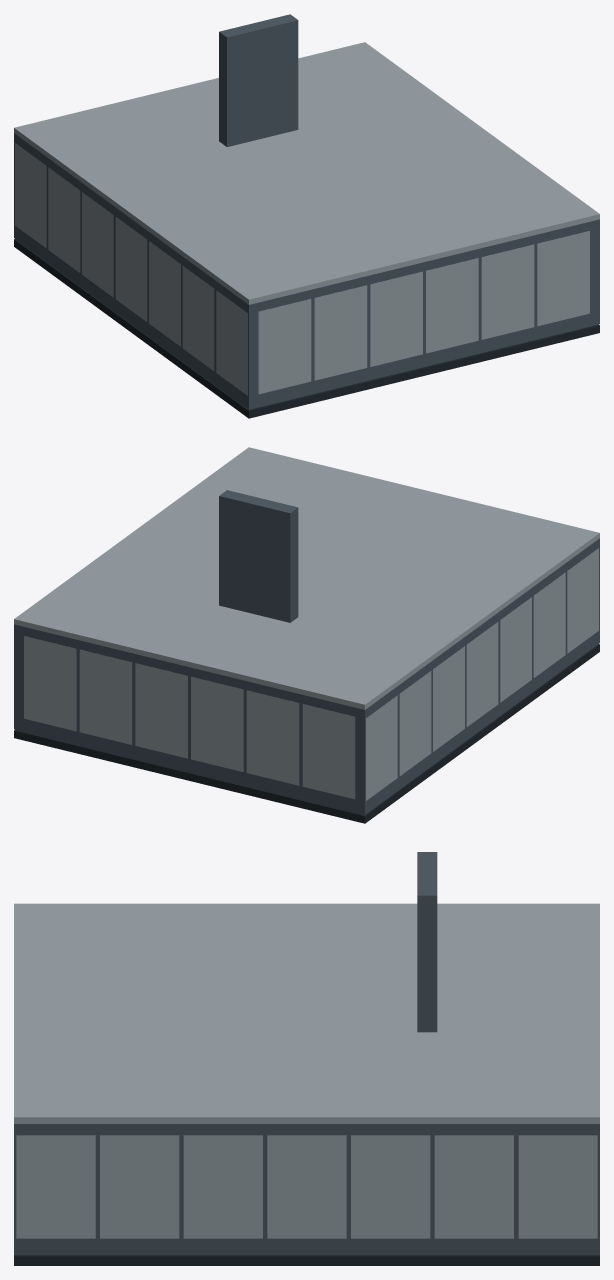
Rendered from empty-room.glb.
3 views of the same model, one above another, from view 1: azimuth 30°, elevation 25°; view 2: azimuth 150°, elevation 25°; view 3: azimuth 270°, elevation 25° (orthographic). The views are drawn at different scales.
Parts seen in each view (by area): view 1: Environment_Static; view 2: Environment_Static; view 3: Environment_Static.
Part boxes in pixels (x1=…): Environment_Static: x1=14, y1=14, x2=599, y2=418; Environment_Static: x1=14, y1=447, x2=599, y2=823; Environment_Static: x1=14, y1=852, x2=599, y2=1265.
Bounding box in the file's own units: 12.6 × 7.84 × 14.6.
